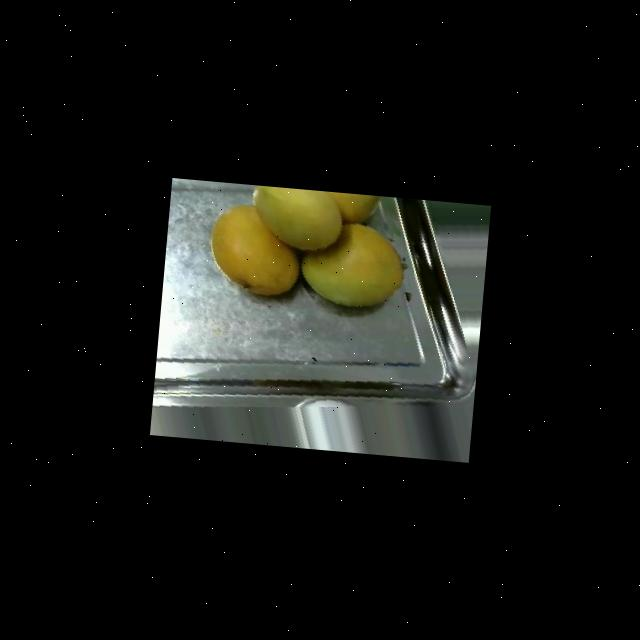Mango: (298, 217, 408, 311), (206, 200, 304, 298), (248, 185, 346, 252), (311, 190, 390, 226)
